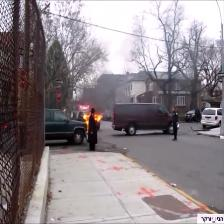fire: (81, 101, 107, 136)
